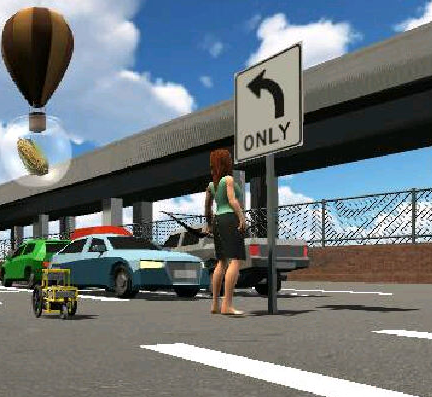arrow_left: (246, 69, 289, 120)
